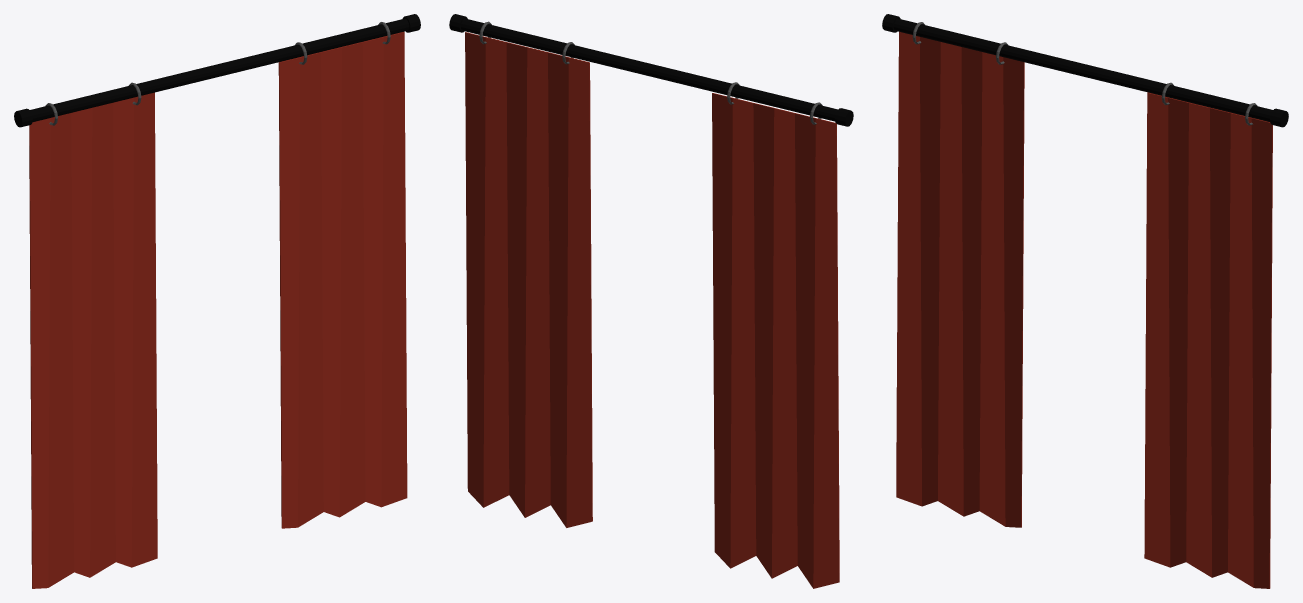
File: window_screen_5.fbx
The picture shows the model from 3 angles, left to right: view 1: azimuth 30°, elevation 25°; view 2: azimuth 150°, elevation 25°; view 3: azimuth 330°, elevation 25°; orthographic projection.
Visible parts, largest first — view 1: window_screen.004; view 2: window_screen.004; view 3: window_screen.004.
Part boxes in pixels (x1,y1,x2,y2): window_screen.004: [14, 14, 420, 588]; window_screen.004: [449, 14, 853, 588]; window_screen.004: [882, 14, 1288, 588].
Bounding box in the file's own units: 3.54 × 4.13 × 0.1805.
